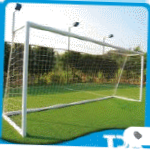goals: (3, 20, 144, 134)
